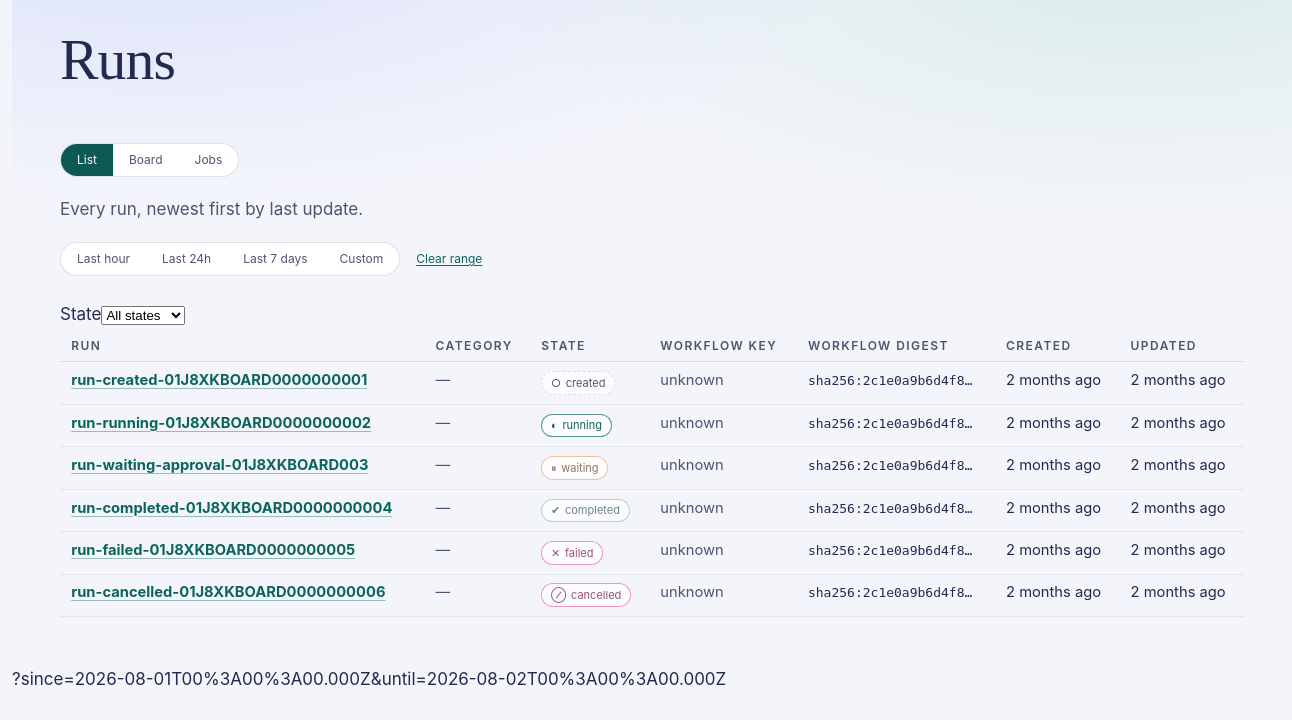
Test: Runs projection toggle › keeps the bookmarked time range when the projection changes
Click the button "Jobs".
click(208, 160)  # box x1=178 y1=144 x2=238 y2=176
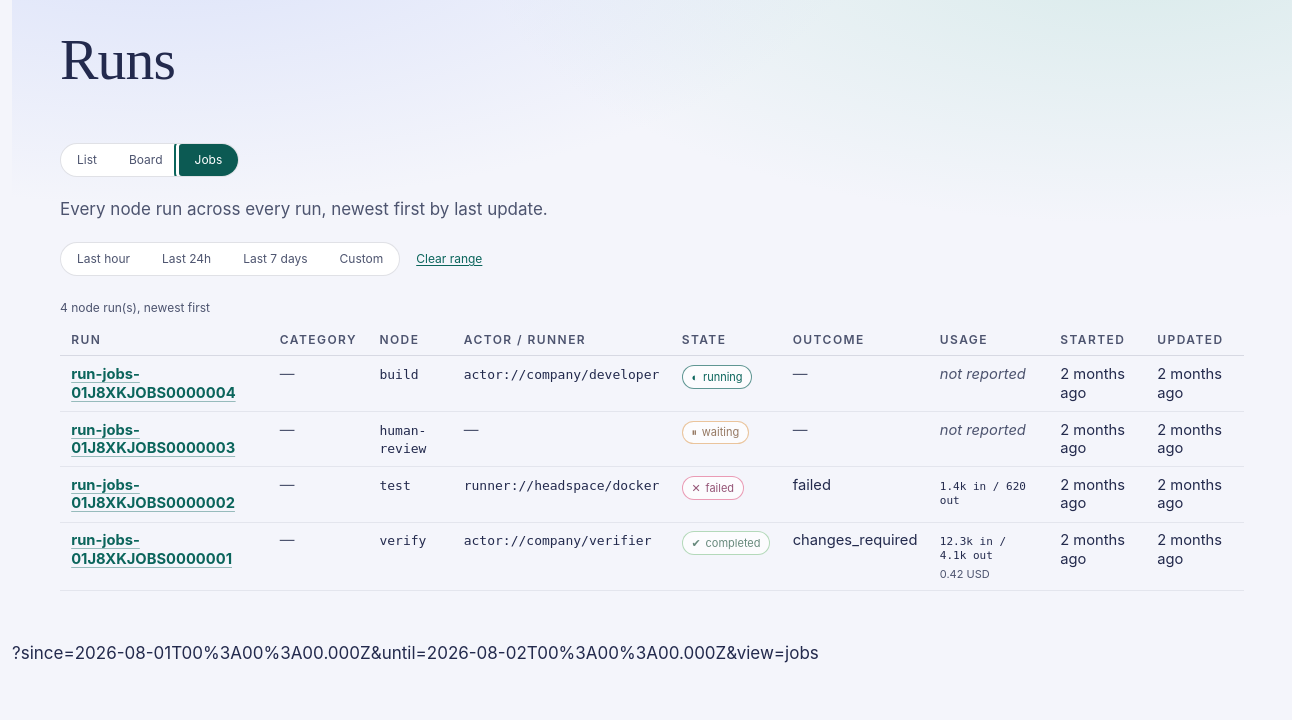
Expected: the text with test id "location" shows "since=2026-08-01T00%3A00%3A00.000Z", x1=12 y1=643 x2=819 y2=663
Expected: the table with id "jobs-table" is shown, x1=60 y1=300 x2=1244 y2=591
Expected: the text with test id "location" shows "view=jobs", x1=12 y1=643 x2=819 y2=663
